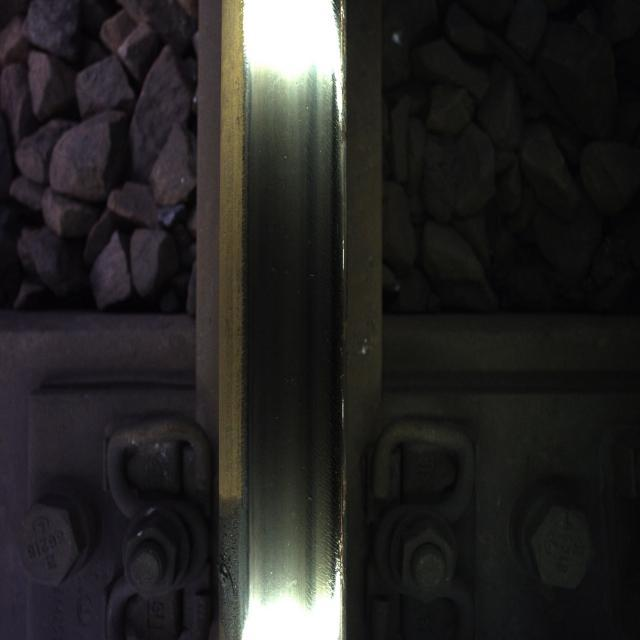normal: (252, 52, 352, 628)
